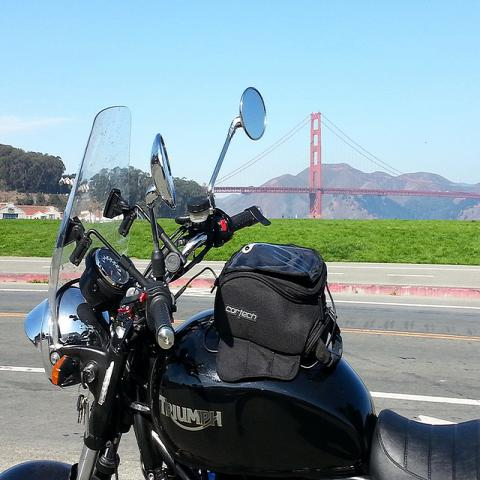motorcycle: (0, 123, 478, 479)
